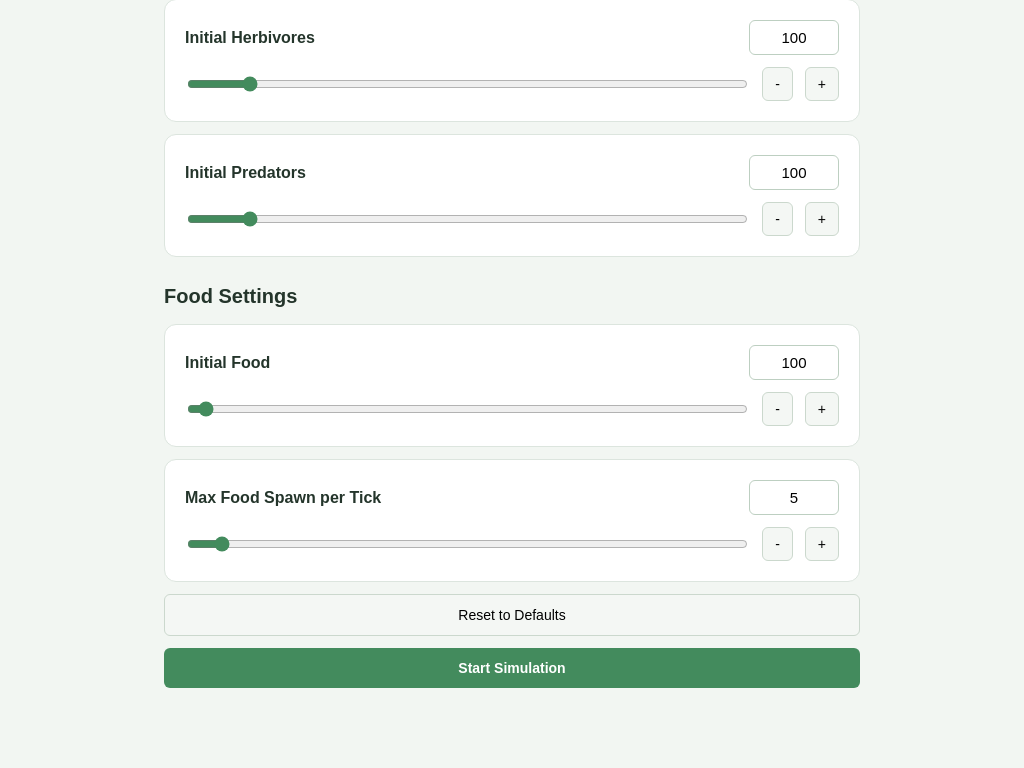
ConfigurationPage › displays the server-capacity message
(page scrolled)
Click the button "Start Simulation": (512, 668) [164,648,860,688]
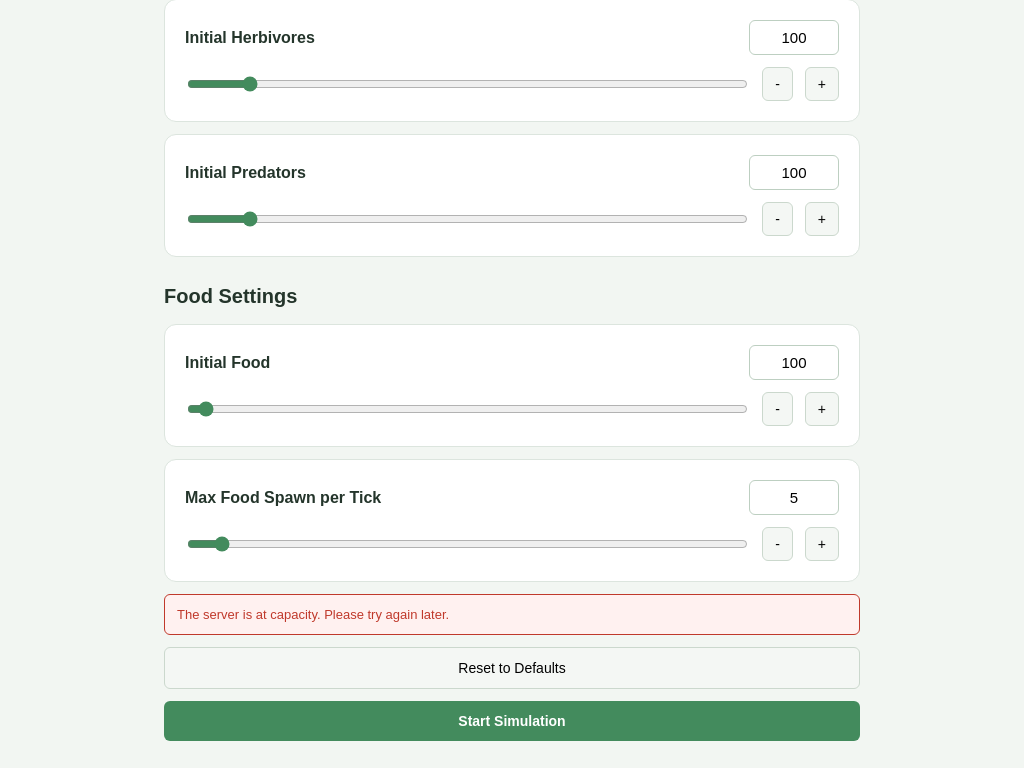
Now the message reads "The server is at capacity. Please try again later.", box [177,607,449,622]
